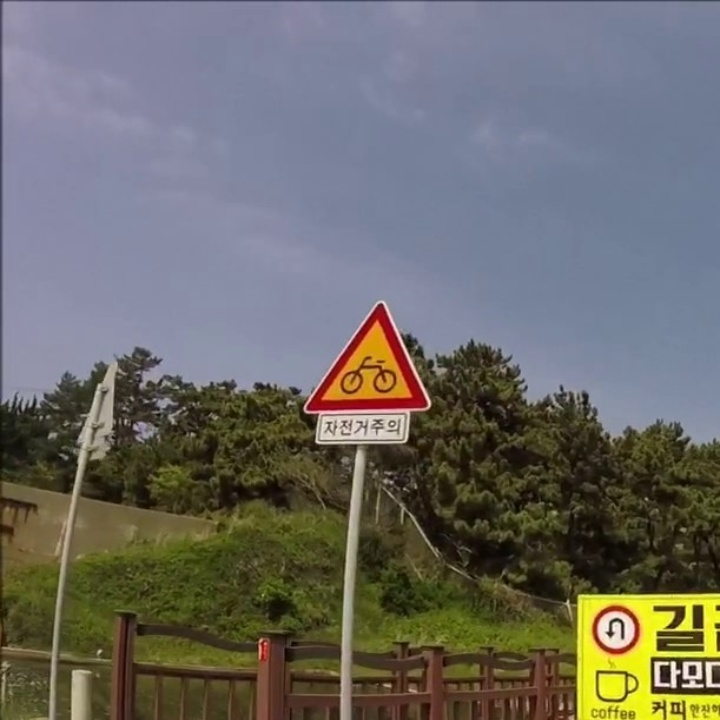bicycle: (298, 297, 432, 413)
